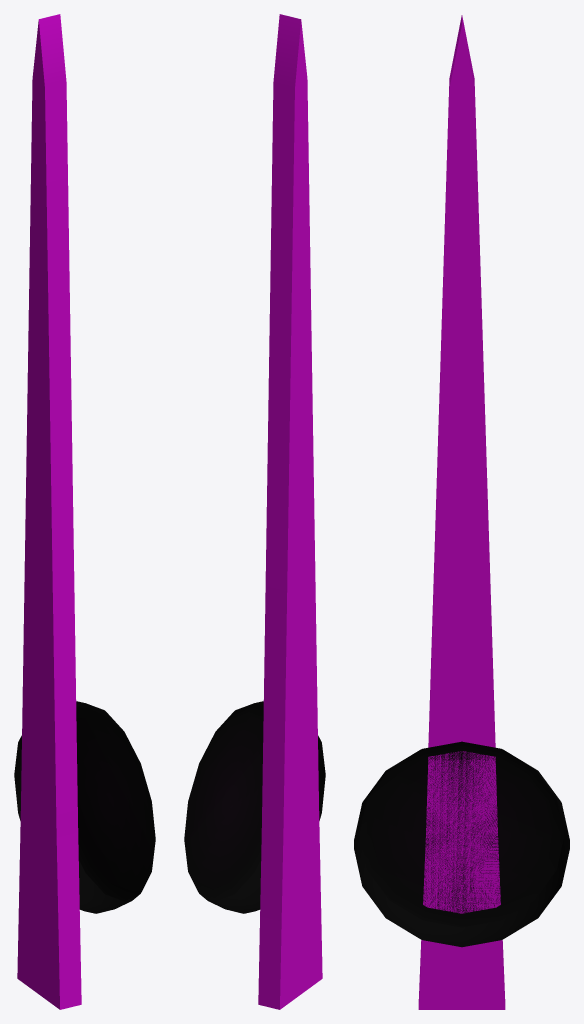
Rendered from ck_needle_vsi.fbx.
3 renders of one model, left to right at view 1: azimuth 30°, elevation 25°; view 2: azimuth 150°, elevation 25°; view 3: azimuth 270°, elevation 25°, orthographic.
Parts seen in each view (by area): view 1: ck_needle_vsi; view 2: ck_needle_vsi; view 3: ck_needle_vsi.
Part boxes in pixels (x1=…): ck_needle_vsi: x1=14, y1=14, x2=155, y2=1009; ck_needle_vsi: x1=184, y1=14, x2=325, y2=1009; ck_needle_vsi: x1=354, y1=15, x2=569, y2=1009.
Bounding box in the file's own units: 0.6 × 0.23 × 3.02.
